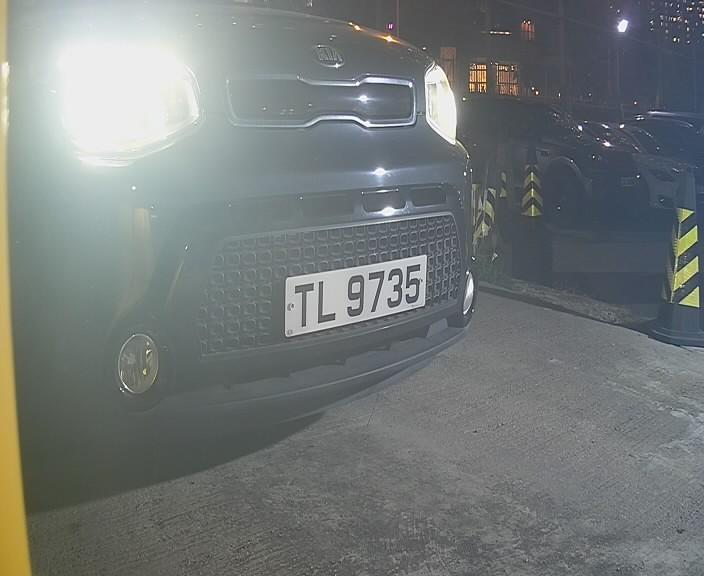privatecar: (1, 1, 525, 458)
